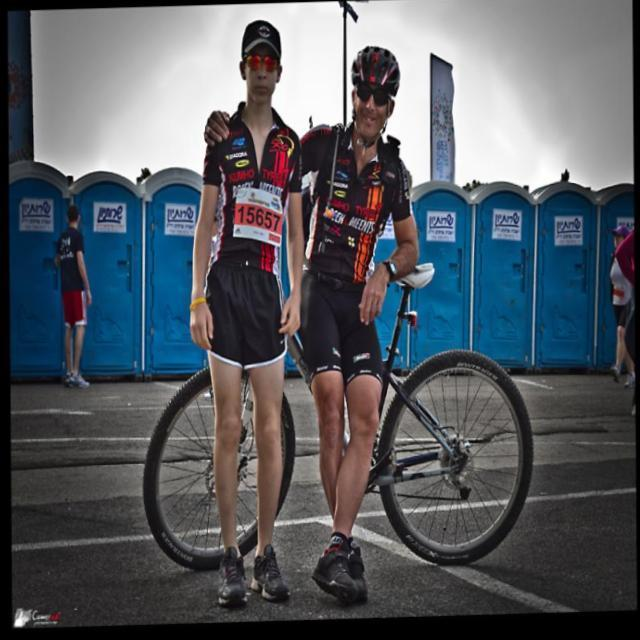dorsal: (226, 182, 287, 256)
